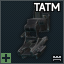Norotos Titanium Advanced Tactical Mount: (0, 0, 64, 64)
